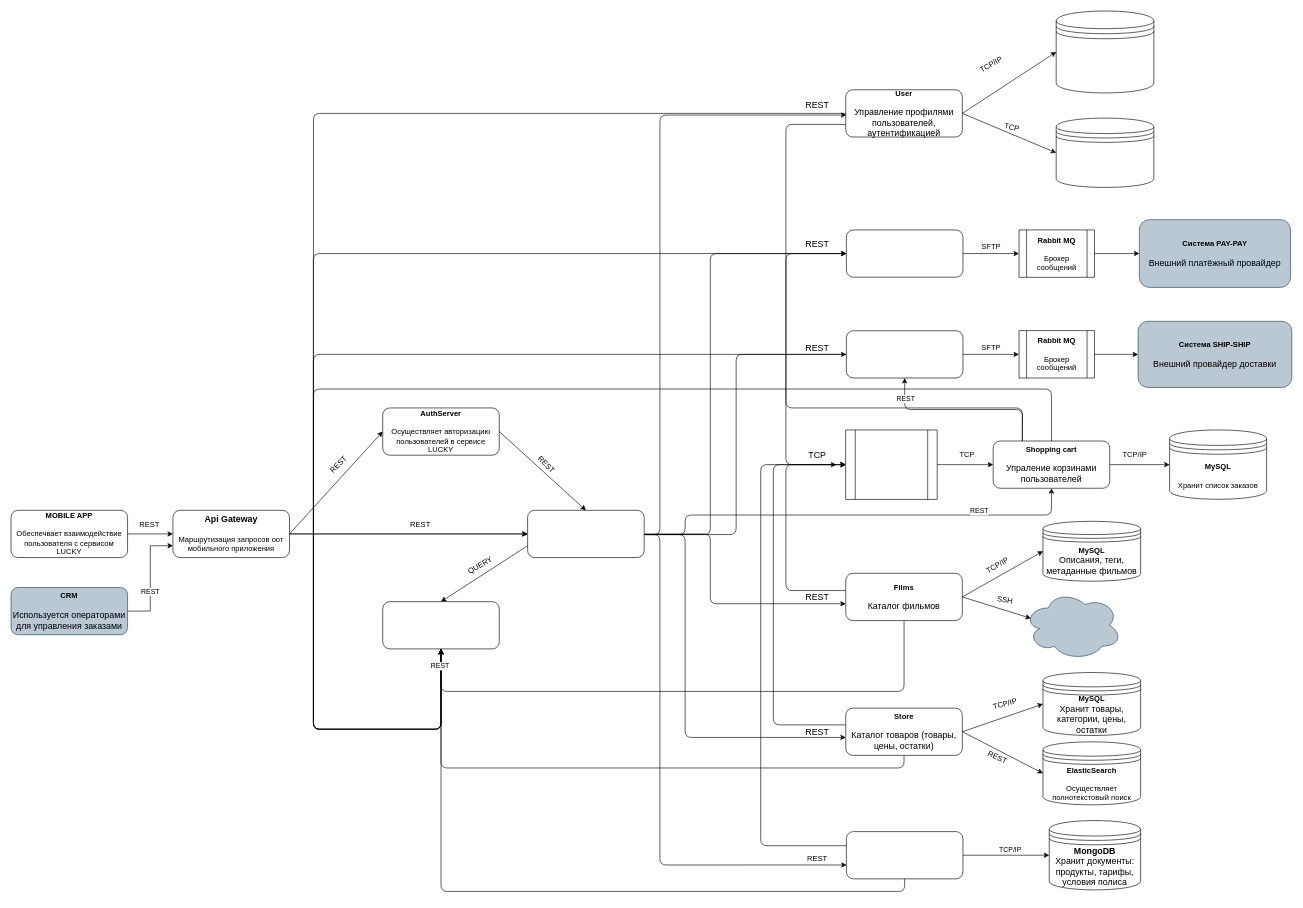
This 1303x908 diagram has some shape labels left out. The centre of each missing label's shape, as x and y in pixels:
"Amazon S3 Файловый хостинг для медиа" goes at (x=1072, y=625).
"Insurance Каталог страховых продуктов" goes at (x=904, y=855).
"Kafka Обеспечивает обмен сообщениями между сервисами" goes at (x=891, y=464).
"Load Balancer Балансировка и таймауты" goes at (x=585, y=534).
"MySQL Хранит данные пользователей, профиль, логины" goes at (x=1105, y=51).
"Payment Инициирование ипроверка оплат" goes at (x=904, y=253).
"Redis Обеспечивает кэширование" goes at (x=1105, y=152).
"Service Registry Хранит адреса и инстансы сервисов" goes at (x=440, y=625).
"Shipping Логистика, оформление доставки" goes at (x=904, y=354).
